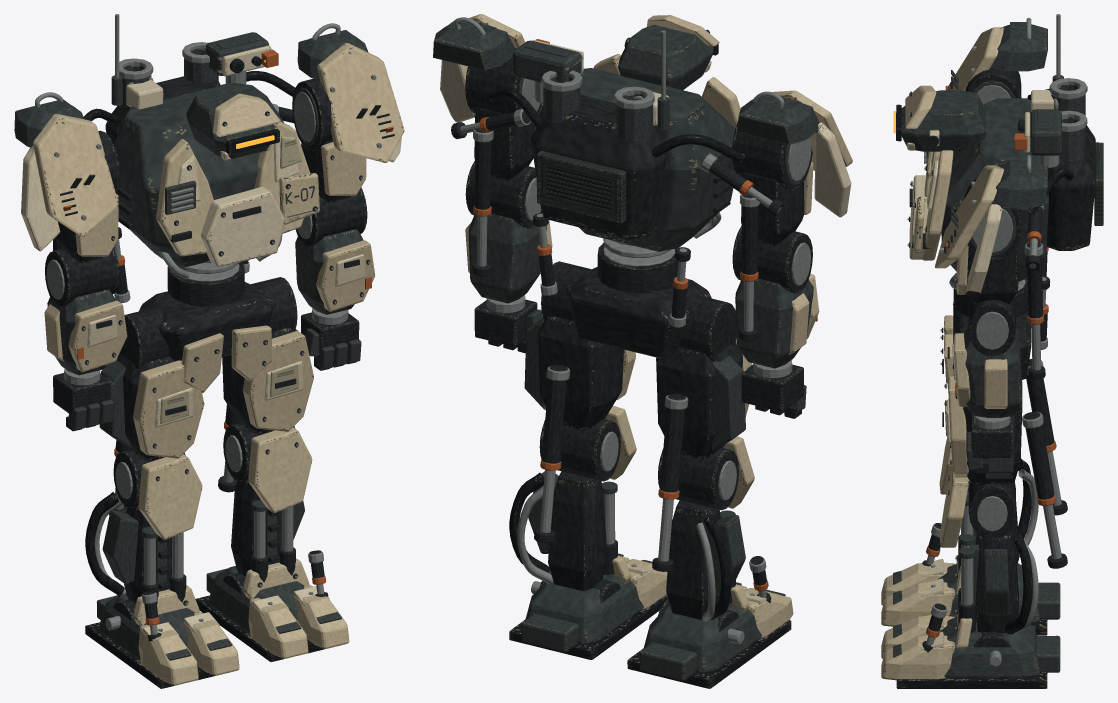
The model's file is kestrel.glb.
3 renders of one model, left to right at view 1: azimuth 30°, elevation 25°; view 2: azimuth 150°, elevation 25°; view 3: azimuth 270°, elevation 25°, orthographic. The views are drawn at different scales.
Visible parts, largest first — view 1: spine.geometry, knee.R.geometry, pauldron.R.geometry, knee.L.geometry, hip.R.geometry, ankle.L.geometry, ankle.R.geometry, pauldron.L.geometry, elbow.R.geometry, pelvis.geometry, hip.L.geometry, elbow.L.geometry (+5 smaller); view 2: spine.geometry, knee.L.geometry, knee.R.geometry, hip.R.geometry, ankle.R.geometry, ankle.L.geometry, hip.L.geometry, elbow.R.geometry, elbow.L.geometry, pelvis.geometry, pauldron.R.geometry, shoulder.R.geometry (+17 smaller); view 3: spine.geometry, knee.L.geometry, ankle.L.geometry, elbow.L.geometry, pauldron.L.geometry, ankle.R.geometry, neck.geometry, pauldron.R.geometry, shoulder.L.geometry, hip.L.geometry, knee.R.geometry, wrist.L.geometry (+11 smaller).
Boxes of the visible parts, left/top/right/bottom form: spine.geometry: left=83, top=14, right=319, bottom=306; knee.R.geometry: left=85, top=450, right=202, bottom=604; pauldron.R.geometry: left=14, top=92, right=118, bottom=251; knee.L.geometry: left=223, top=423, right=312, bottom=582; hip.R.geometry: left=99, top=307, right=204, bottom=460; ankle.L.geometry: left=195, top=558, right=349, bottom=661; ankle.R.geometry: left=85, top=585, right=239, bottom=688; pauldron.L.geometry: left=297, top=23, right=404, bottom=162; elbow.R.geometry: left=44, top=248, right=127, bottom=375; pelvis.geometry: left=139, top=282, right=274, bottom=392; hip.L.geometry: left=222, top=277, right=313, bottom=434; elbow.L.geometry: left=295, top=187, right=375, bottom=314; spine.geometry: left=489, top=30, right=744, bottom=292; knee.L.geometry: left=509, top=405, right=636, bottom=590; knee.R.geometry: left=658, top=436, right=754, bottom=621; hip.R.geometry: left=656, top=294, right=751, bottom=459; ankle.R.geometry: left=627, top=582, right=793, bottom=688; ankle.L.geometry: left=509, top=553, right=667, bottom=659; hip.L.geometry: left=524, top=261, right=635, bottom=430; elbow.R.geometry: left=732, top=226, right=819, bottom=368; elbow.L.geometry: left=465, top=161, right=552, bottom=303; pelvis.geometry: left=566, top=267, right=711, bottom=358; pauldron.R.geometry: left=738, top=90, right=852, bottom=217; shoulder.R.geometry: left=732, top=120, right=813, bottom=245; spine.geometry: left=907, top=14, right=1103, bottom=317; knee.L.geometry: left=939, top=468, right=1038, bottom=634; ankle.L.geometry: left=881, top=608, right=1060, bottom=688; elbow.L.geometry: left=947, top=297, right=1022, bottom=417; pauldron.L.geometry: left=935, top=154, right=1047, bottom=296; ankle.R.geometry: left=881, top=555, right=1060, bottom=635; neck.geometry: left=896, top=85, right=985, bottom=151; pauldron.R.geometry: left=945, top=17, right=1047, bottom=90; shoulder.L.geometry: left=955, top=177, right=1021, bottom=304; hip.L.geometry: left=942, top=376, right=1022, bottom=484; knee.R.geometry: left=939, top=437, right=1038, bottom=572; wrist.L.geometry: left=966, top=414, right=1013, bottom=473.
Bounding box in the file's own units: 4.26 × 6.55 × 2.19.
Materials: 6 (4 with a texture image).
